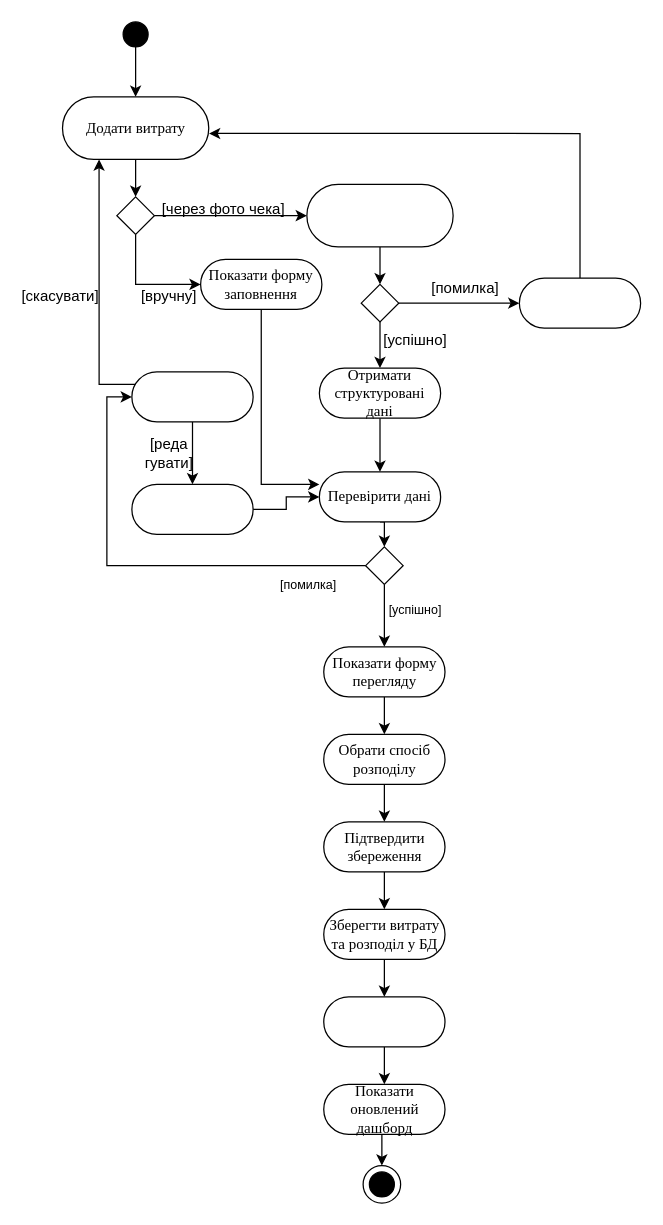
Image size: 663x1225. Some labels were removed from this diagram. The centre of each missing label's shape, as x and y in pixels:
Завантажити фото для Gemini API: the point at 379,215
Переглянути та відредагувати поля: the point at 192,508
Перерахувати баланси: the point at 383,1021
Позначити невідповідні поля попередженням: the point at 192,396
Спробувати ще раз: the point at 579,302
